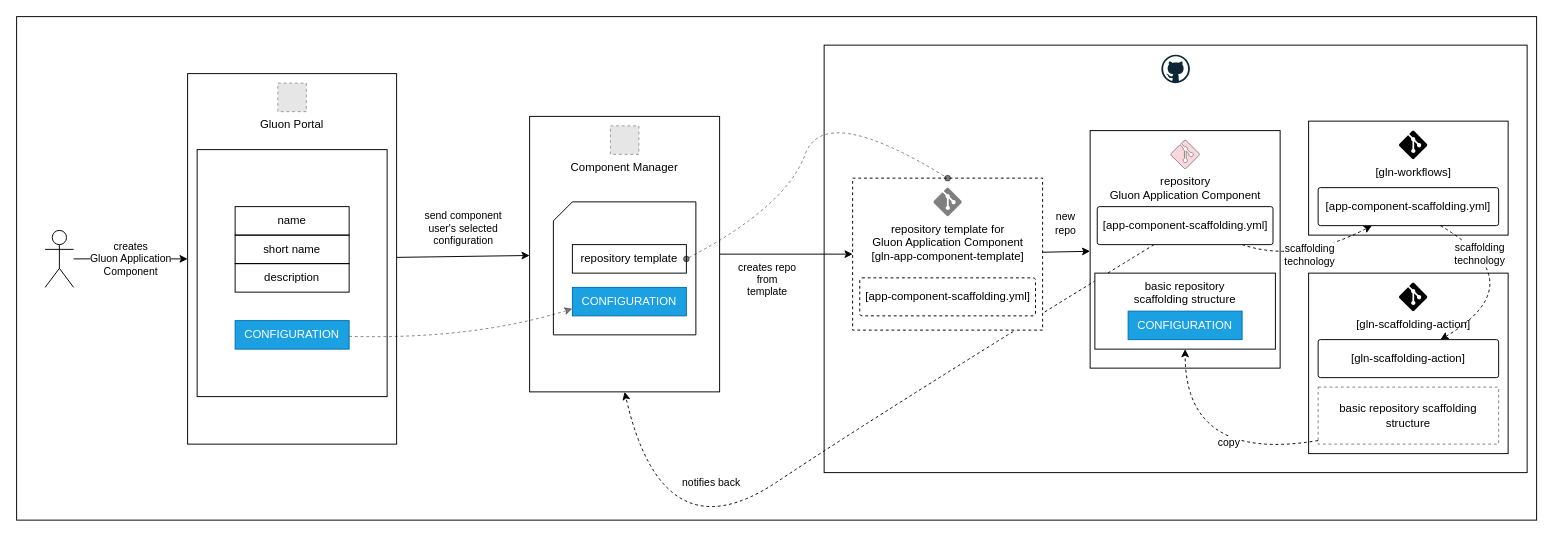
The diagram is 1553 pixels wide and 537 high, and some of its shapes have lost their labels. Grey dashed boxes stand in for pictures. Here are the shapes that lost their labels. From the top down, the box of each, then its label:
(1160, 54, 1190, 83): GitHub.com Santander Group Enterprise Account
(44, 229, 74, 287): You
(196, 149, 387, 397): new Gluon Application Component form
(552, 201, 696, 335): Gluon Application Component template
